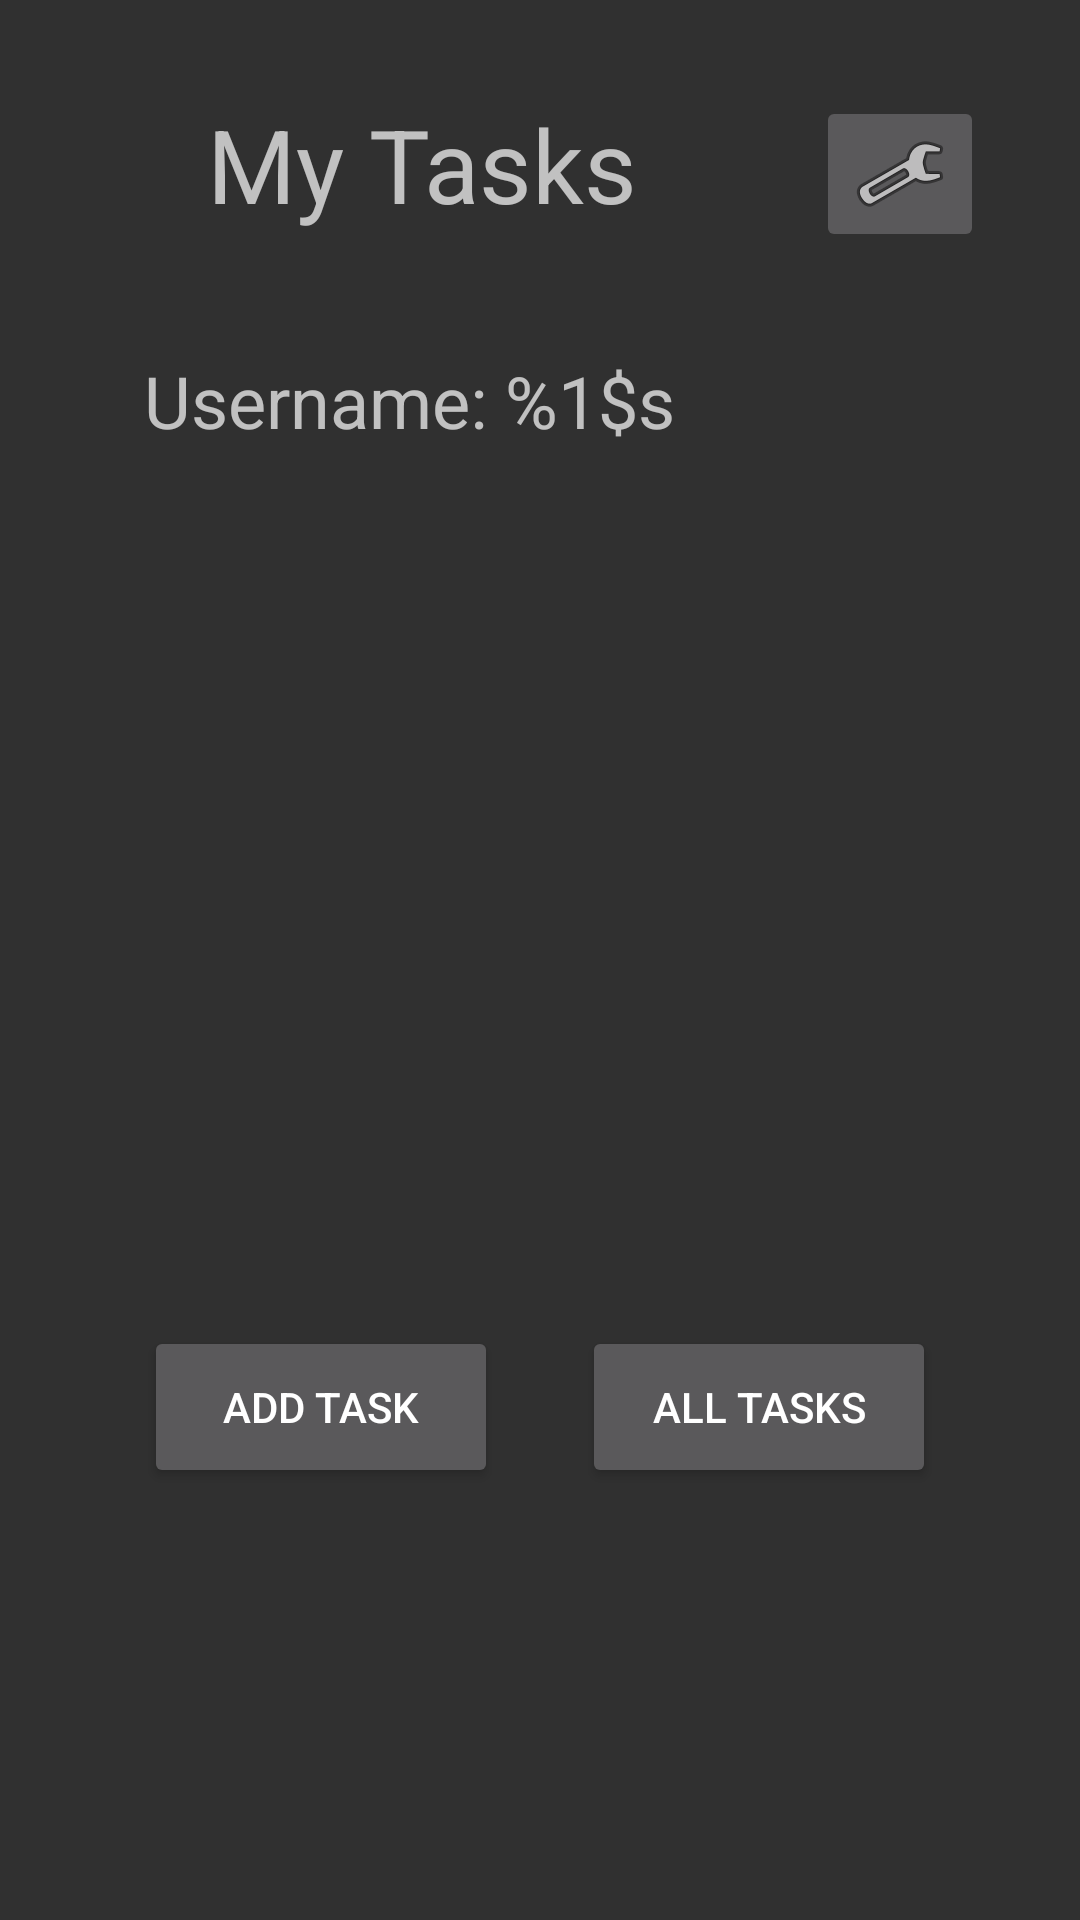

Screen size 1080px×1920px. Icon name, then its box in pixels as (x1, y1, x2, y2):
manage: (828, 114, 972, 234)
